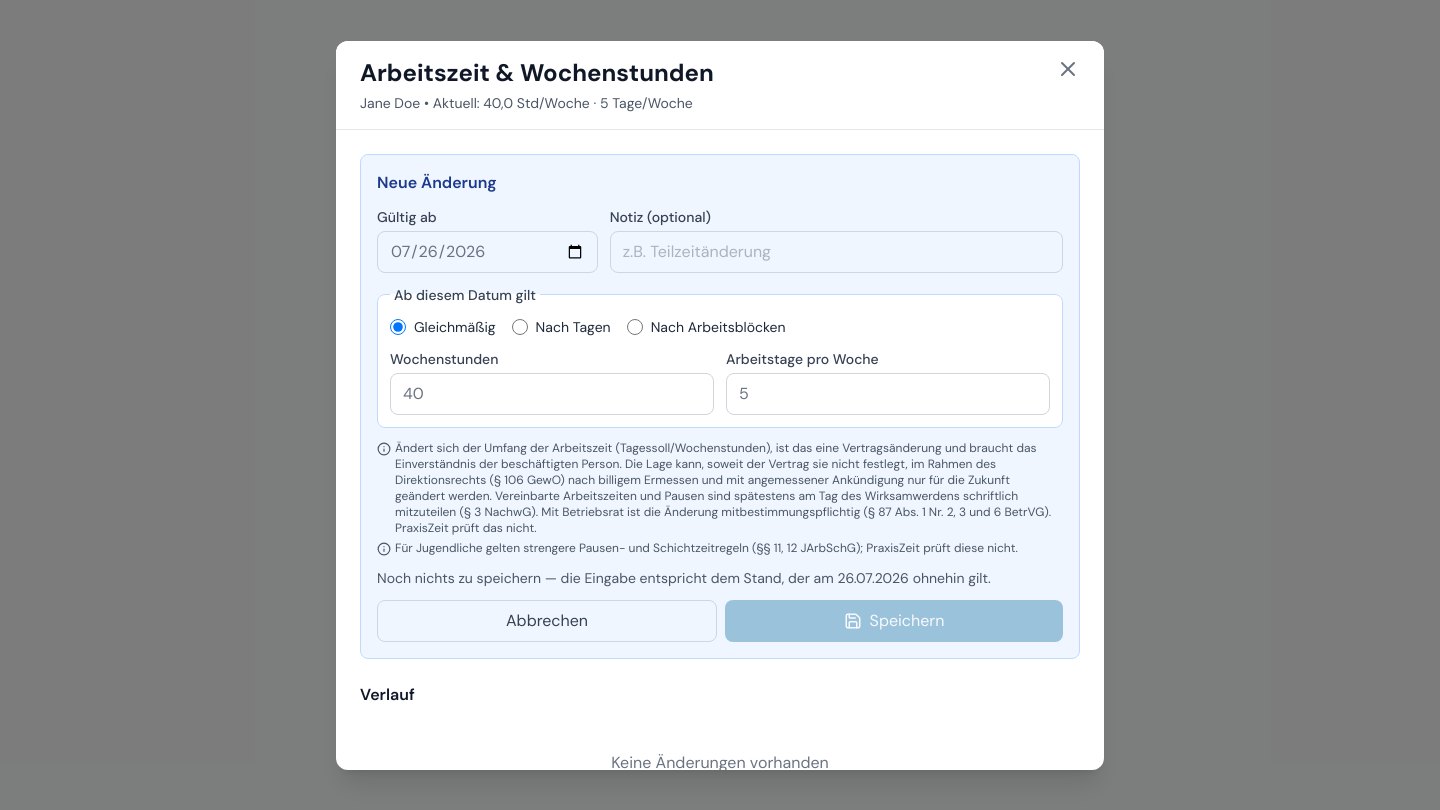
Test: Fund 3 (Release-Review 1.17.0): Kopfzeile + Formular ziehen nach dem Speichern nach › zeigt nach dem Speichern das NEUE Wochenstunden im Kopf und im Eingabefeld, nicht die stale Prop
The width and height of the screenshot is (1440, 810).
Expected: the text "Keine Änderungen vorhanden" is shown, [611, 752, 829, 770]
Expected: the text "Jane Doe • Aktuell: 40,0 Std/Woche · 5 Tage/Woche" is shown, [360, 92, 714, 112]
Replace the text in the number field labelled "Wochenstunden" with "20". click: [552, 394]
box: [390, 372, 714, 414]
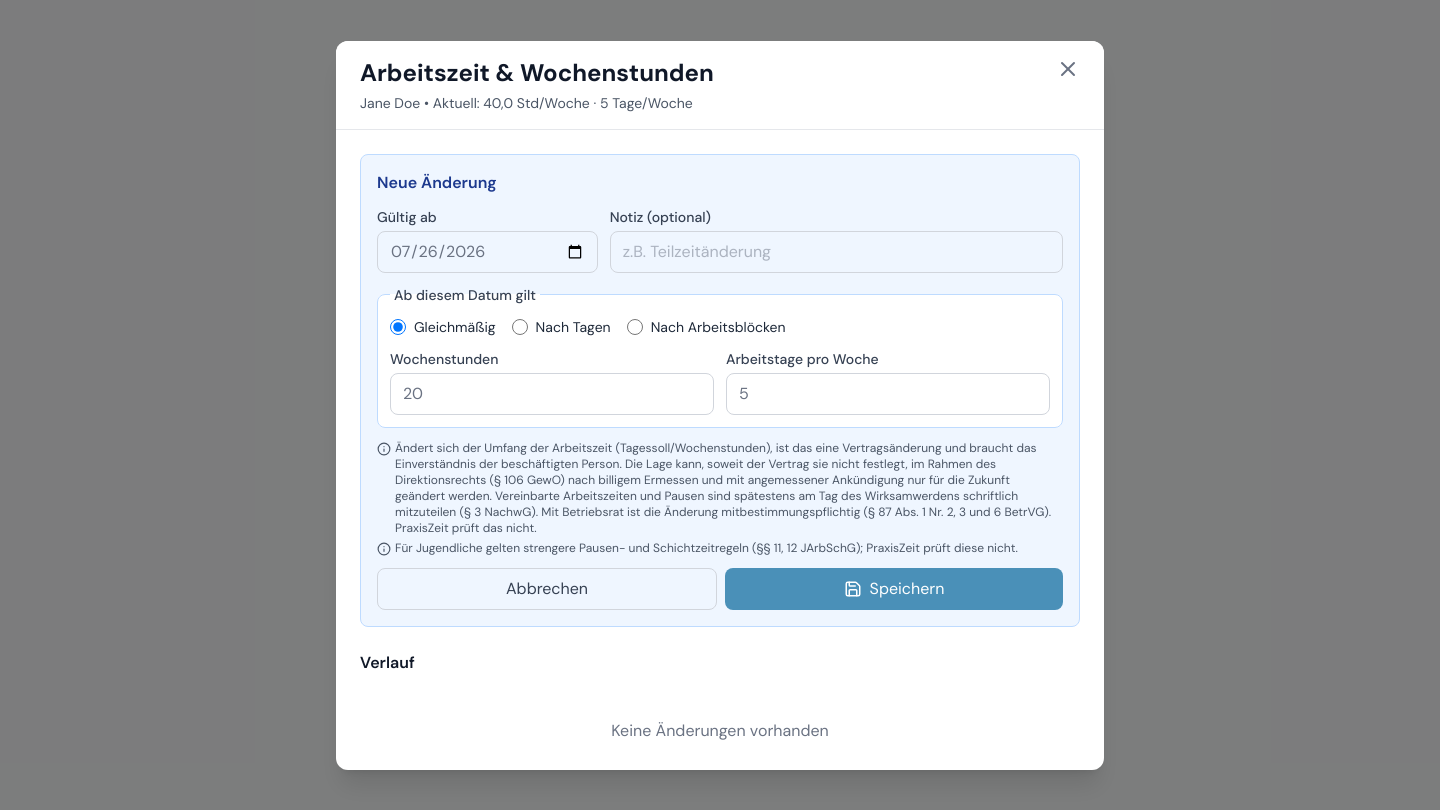
Click the button "Speichern". click: [894, 588]
box: [725, 568, 1063, 610]
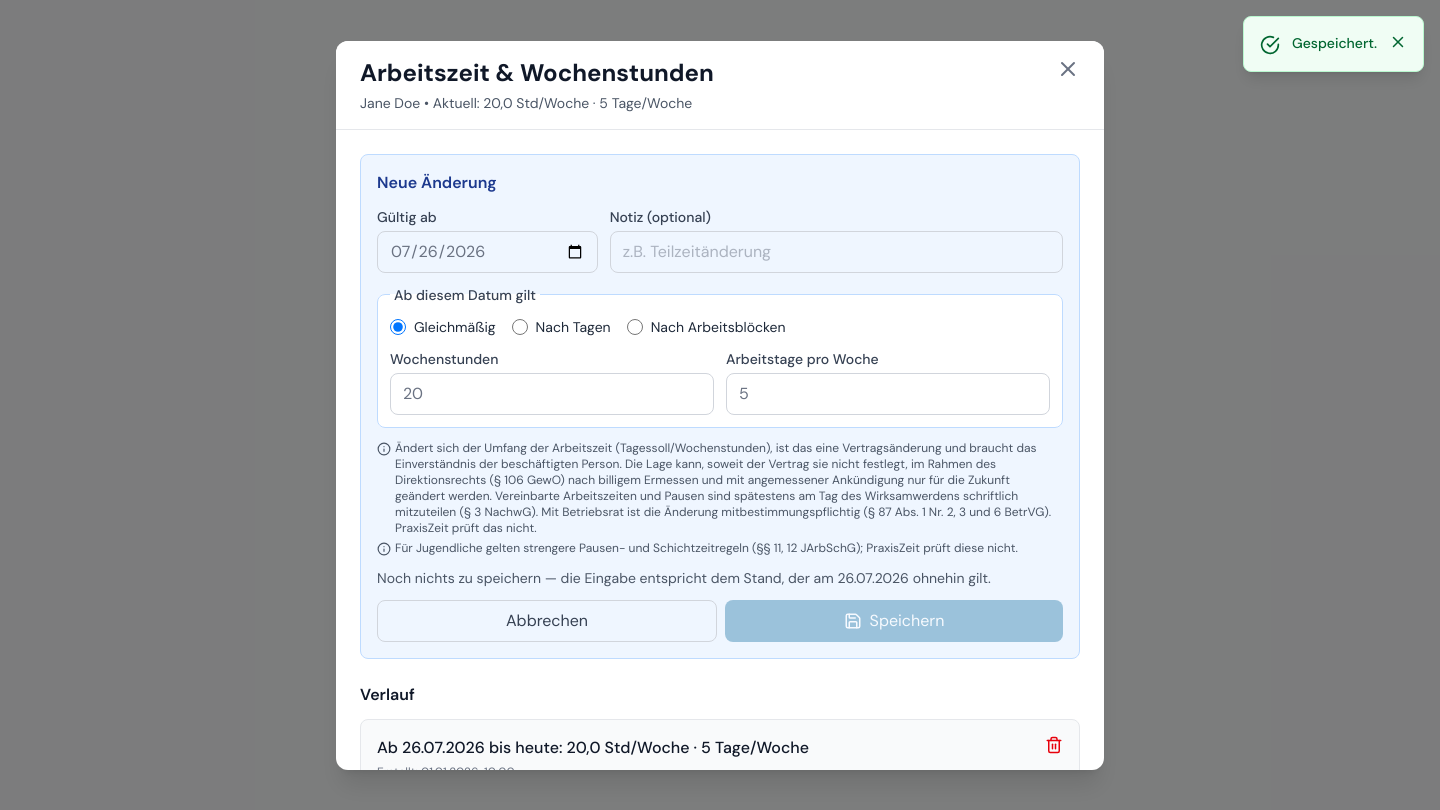
Now the text "Gespeichert." is shown, box [1292, 33, 1377, 53]
Now the text "Jane Doe • Aktuell: 20,0 Std/Woche · 5 Tage/Woche" is shown, box [360, 92, 714, 112]
